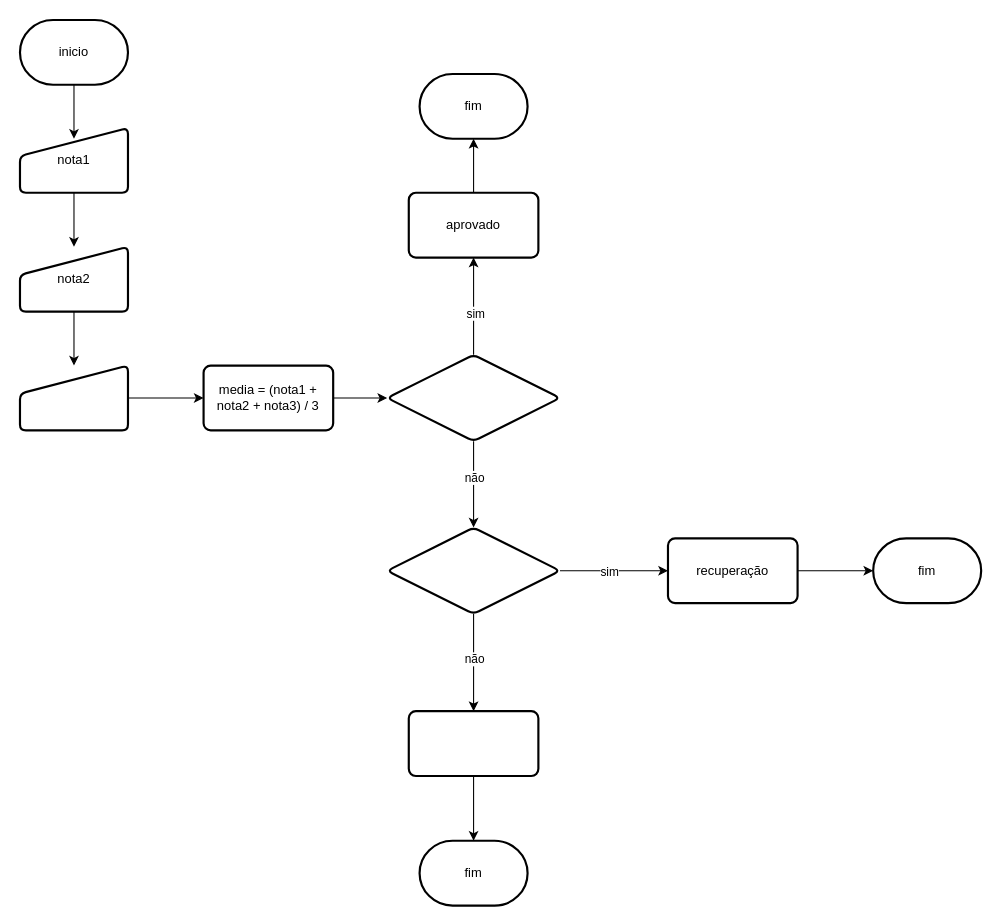
The diagram is 1000 pixels wide and 924 high, and some of its shapes have lost their labels. The shapes that lost their labels are listed below. From the top down, each one's centre as x and y in pixels, then its label:
At [73,397]: "nota3".
At [473,397]: "media é >= 7?".
At [473,570]: "media é >= 5 e <7?".
At [473,743]: "reprovado".
